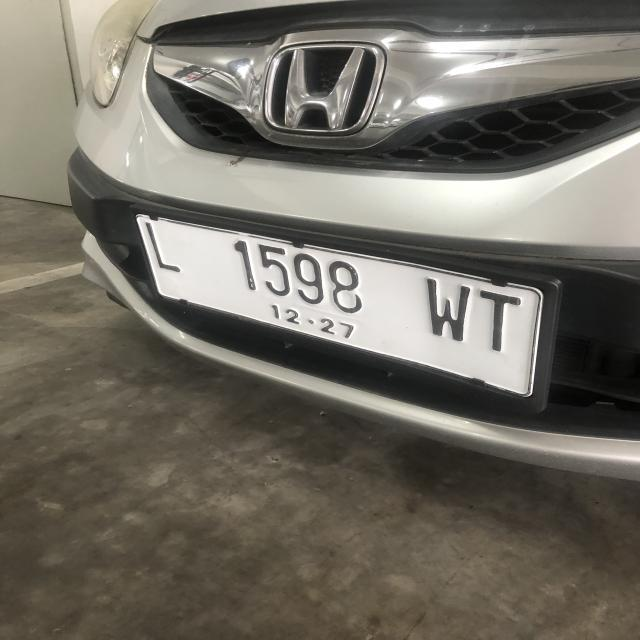1: (231, 240, 257, 292)
5: (258, 238, 294, 300)
8: (328, 256, 362, 316)
9: (292, 248, 327, 307)
L: (143, 217, 185, 278)
T: (472, 286, 524, 356)
W: (421, 278, 473, 344)
